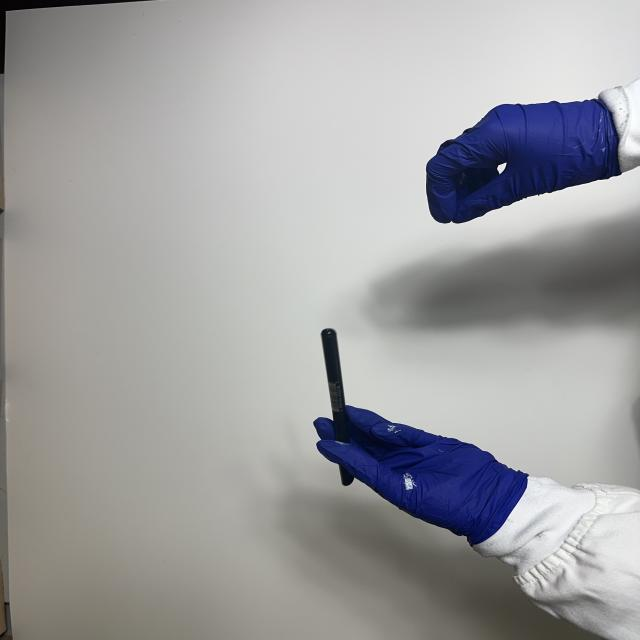gloves_contaminated: (314, 406, 526, 542), (427, 100, 620, 223)
